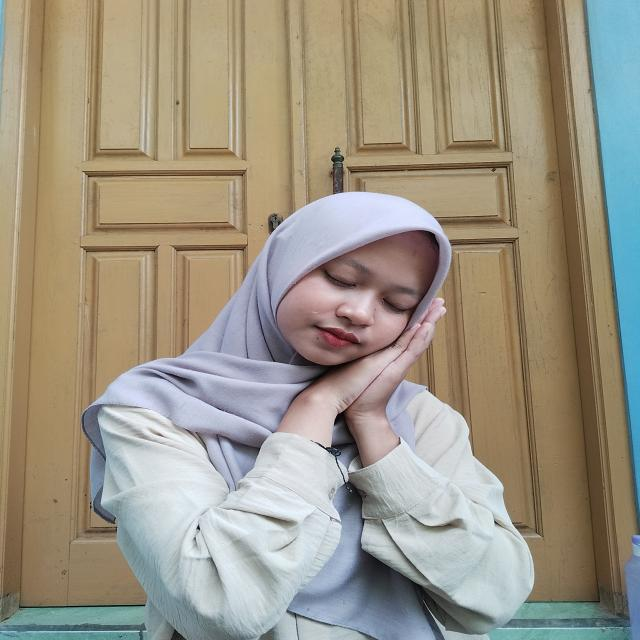tidur: (252, 299, 458, 475)
